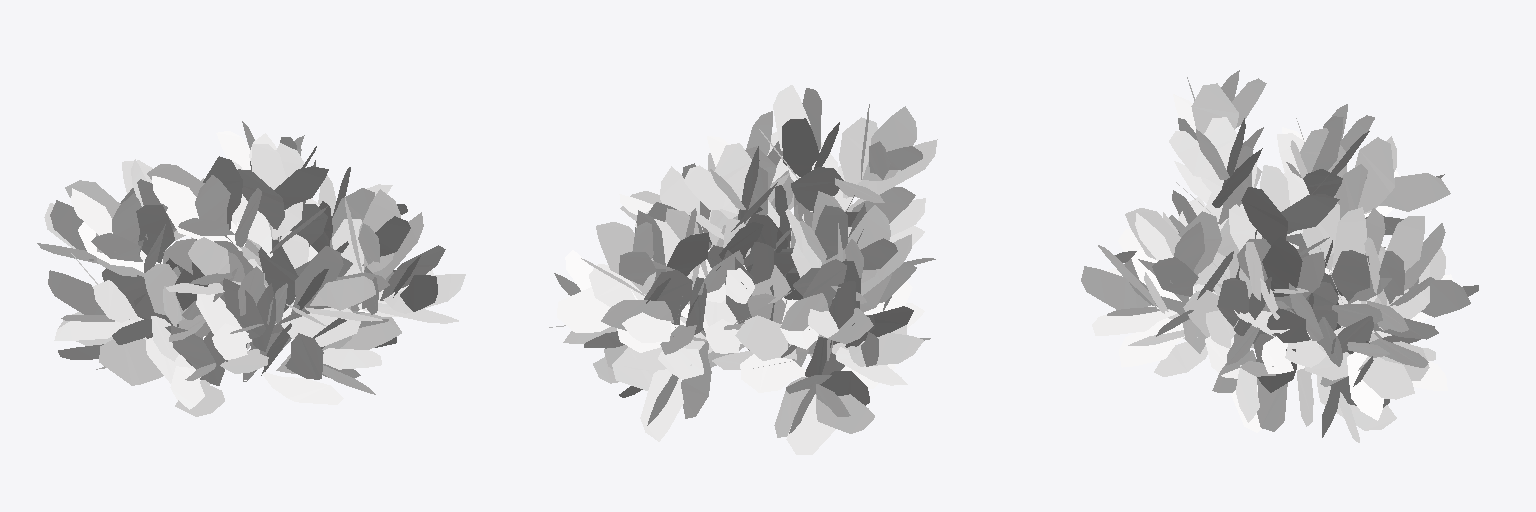
Rendered from leaves.obj.
The picture shows the model from 3 angles: view 1: azimuth 30°, elevation 25°; view 2: azimuth 150°, elevation 25°; view 3: azimuth 270°, elevation 25°; orthographic projection.
Visible parts, largest first — view 1: Canopy_1_Mesh.002; view 2: Canopy_1_Mesh.002; view 3: Canopy_1_Mesh.002.
Part boxes in pixels (left/top/right/bottom): Canopy_1_Mesh.002: left=37, top=121, right=465, bottom=416; Canopy_1_Mesh.002: left=549, top=85, right=937, bottom=454; Canopy_1_Mesh.002: left=1081, top=70, right=1478, bottom=442.
Bounding box in the file's own units: 9.79 × 7.53 × 9.73.